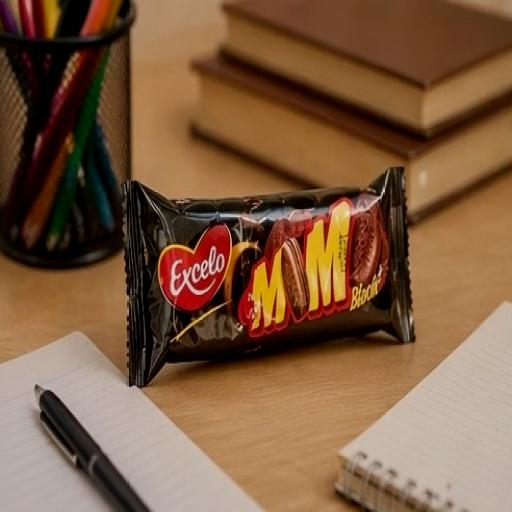MOMO: (100, 131, 426, 419)
